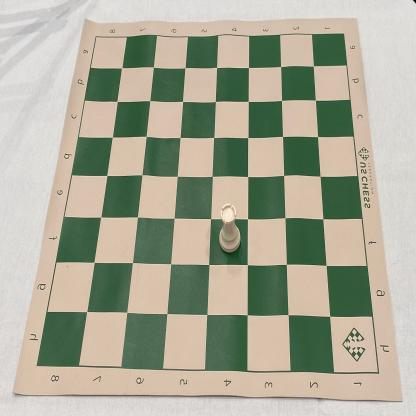white-rook: (218, 203, 241, 254)
